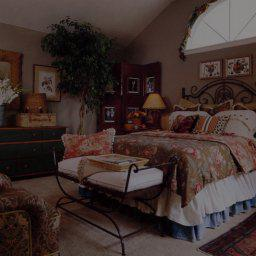Matera: (42, 29, 112, 144)
